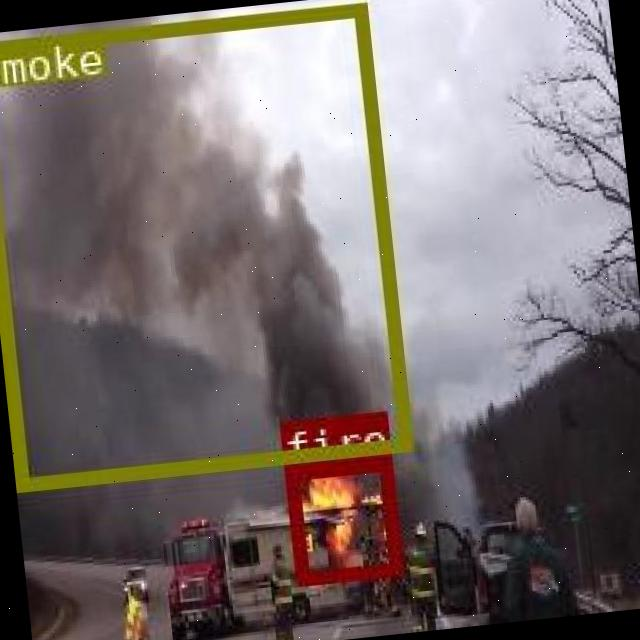fire: (282, 456, 399, 583)
smoke: (0, 2, 410, 486)
